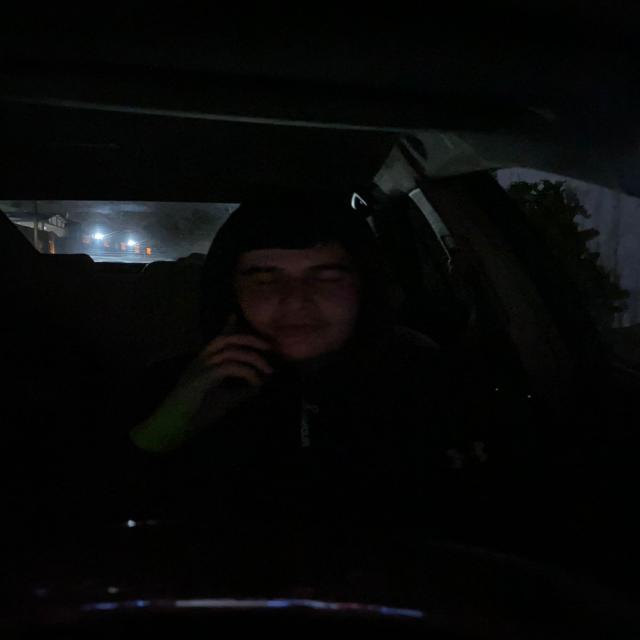mobile: (196, 287, 281, 374)
person: (210, 186, 386, 371)
